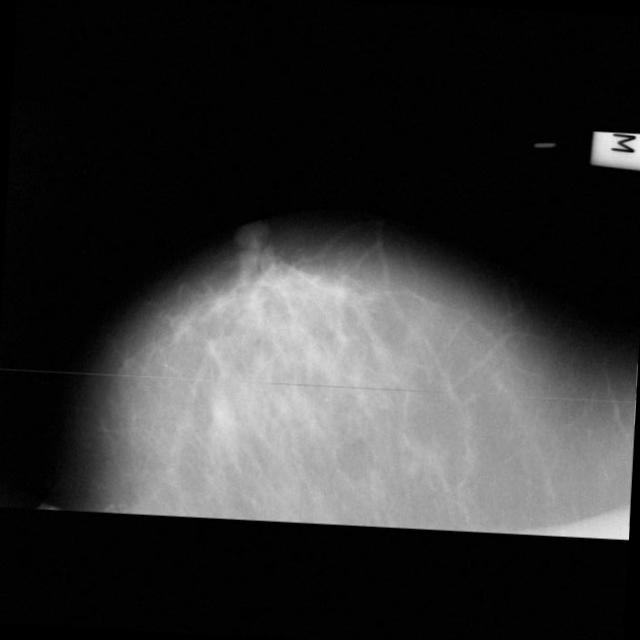MISC: (203, 392, 243, 432)
